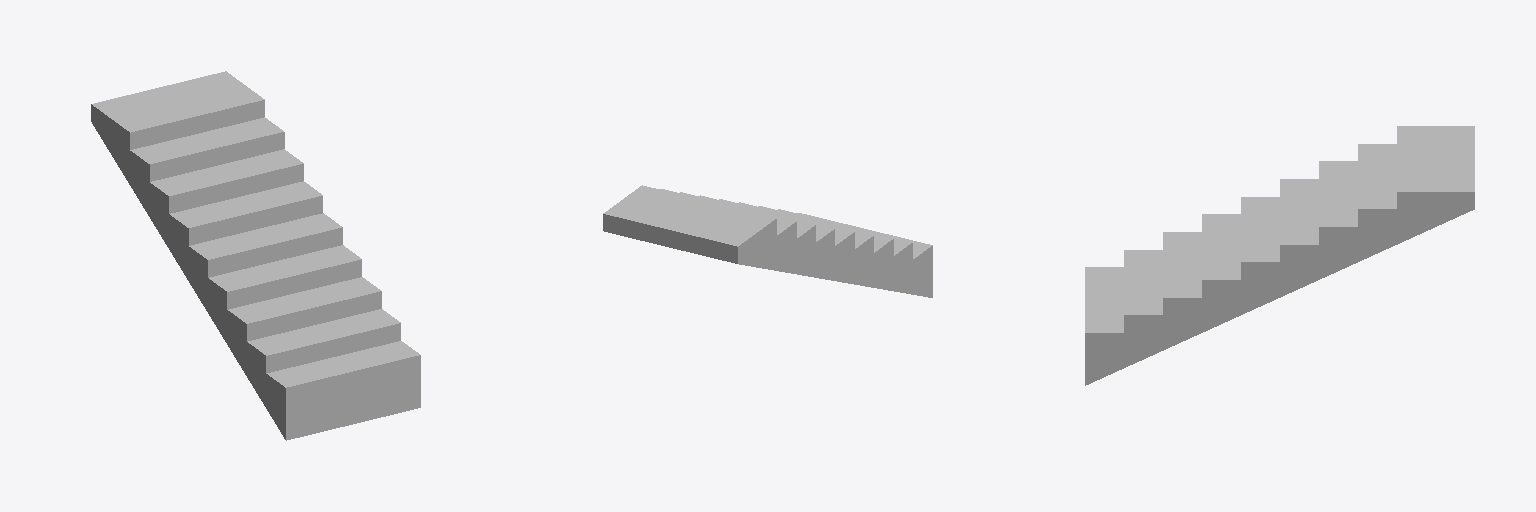
Rendered from Stairs (5).obj.
3 renders of one model, left to right at view 1: azimuth 30°, elevation 25°; view 2: azimuth 150°, elevation 25°; view 3: azimuth 270°, elevation 25°, orthographic.
Parts seen in each view (by area): view 1: Stairs (5); view 2: Stairs (5); view 3: Stairs (5).
Boxes of the visible parts, x1,y1,x2,y2 form: Stairs (5): [91, 71, 420, 440]; Stairs (5): [603, 185, 932, 297]; Stairs (5): [1085, 126, 1474, 385].
Bounding box in the file's own units: 2 × 2.75 × 5.